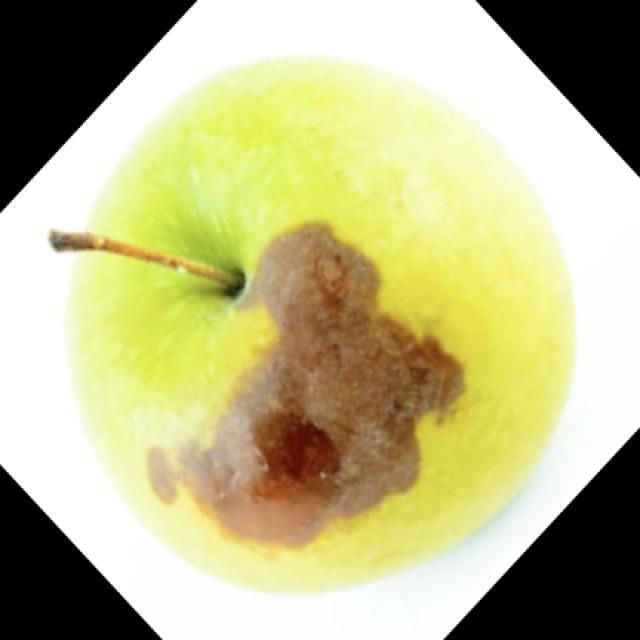Rotten: (81, 60, 582, 580)
